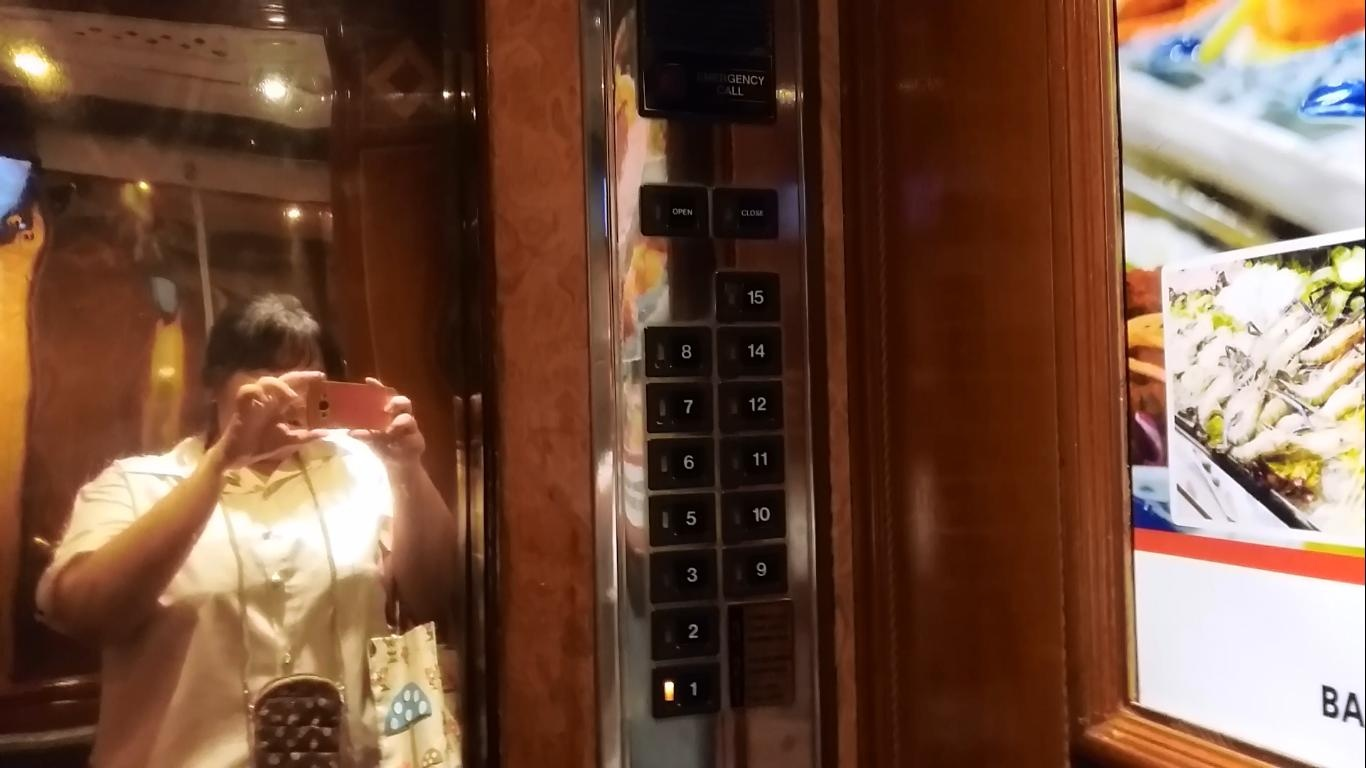1: (649, 662, 720, 719)
10: (718, 487, 789, 544)
11: (716, 431, 787, 488)
12: (714, 377, 785, 434)
14: (713, 323, 784, 380)
15: (712, 268, 783, 325)
2: (649, 604, 720, 661)
3: (648, 546, 719, 603)
5: (646, 491, 717, 548)
6: (645, 435, 716, 492)
7: (644, 379, 715, 436)
8: (643, 323, 714, 380)
9: (719, 542, 790, 599)
text_close: (713, 183, 781, 239)
text_open: (637, 183, 711, 238)
